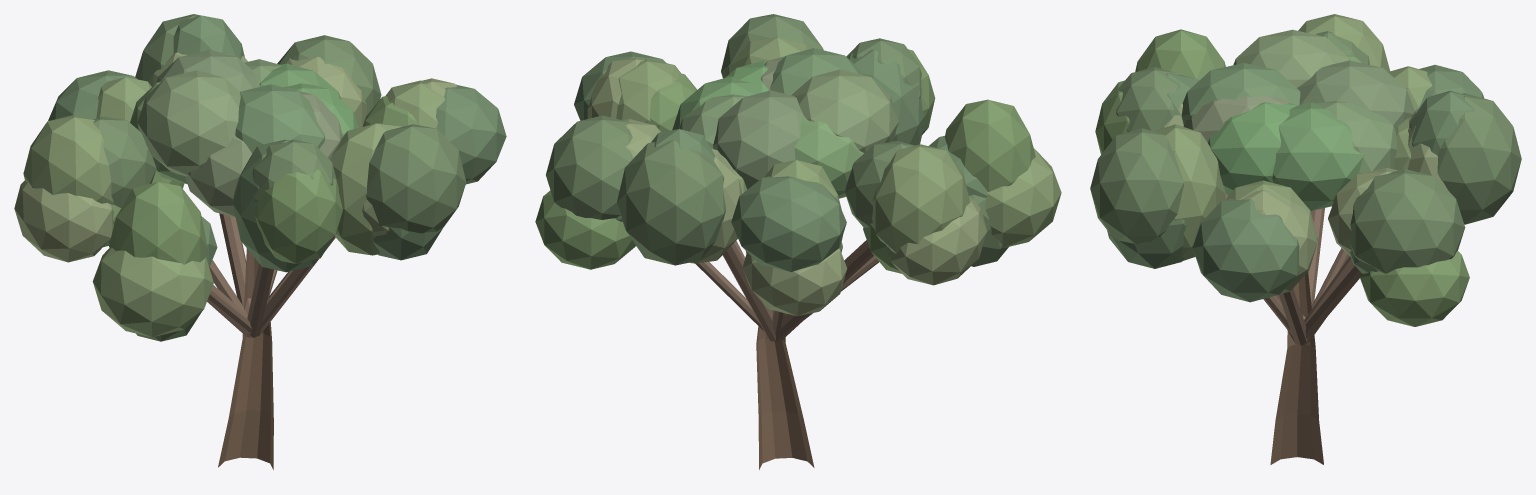
Rendered from old_oak_2.glb.
The picture shows the model from 3 angles, left to right: view 1: azimuth 30°, elevation 25°; view 2: azimuth 150°, elevation 25°; view 3: azimuth 270°, elevation 25°; orthographic projection.
Visible parts, largest first — view 1: old_oak_2_10, old_oak_2_43, old_oak_2_20, old_oak_2_15, old_oak_2_19, old_oak_2_0, old_oak_2_24, old_oak_2_25, old_oak_2_5, old_oak_2_7, old_oak_2_41, old_oak_2_22 (+22 smaller); view 2: old_oak_2_35, old_oak_2_30, old_oak_2_24, old_oak_2_39, old_oak_2_45, old_oak_2_19, old_oak_2_43, old_oak_2_0, old_oak_2_20, old_oak_2_40, old_oak_2_25, old_oak_2_29 (+25 smaller); view 3: old_oak_2_39, old_oak_2_10, old_oak_2_5, old_oak_2_35, old_oak_2_47, old_oak_2_0, old_oak_2_40, old_oak_2_44, old_oak_2_45, old_oak_2_7, old_oak_2_43, old_oak_2_41 (+22 smaller).
Part boxes in pixels (left/top/right/bottom): old_oak_2_10: left=366, top=124, right=466, bottom=233; old_oak_2_43: left=137, top=70, right=240, bottom=176; old_oak_2_20: left=92, top=248, right=213, bottom=337; old_oak_2_15: left=255, top=169, right=342, bottom=263; old_oak_2_19: left=109, top=182, right=207, bottom=264; old_oak_2_0: left=218, top=248, right=273, bottom=469; old_oak_2_24: left=23, top=115, right=113, bottom=204; old_oak_2_25: left=14, top=180, right=113, bottom=262; old_oak_2_5: left=436, top=84, right=506, bottom=184; old_oak_2_7: left=330, top=123, right=402, bottom=255; old_oak_2_41: left=235, top=84, right=324, bottom=153; old_oak_2_22: left=93, top=116, right=156, bottom=207; old_oak_2_35: left=617, top=140, right=726, bottom=265; old_oak_2_30: left=731, top=176, right=846, bottom=271; old_oak_2_24: left=871, top=144, right=970, bottom=253; old_oak_2_39: left=546, top=115, right=633, bottom=219; old_oak_2_45: left=713, top=90, right=803, bottom=189; old_oak_2_19: left=945, top=99, right=1035, bottom=191; old_oak_2_43: left=791, top=69, right=898, bottom=152; old_oak_2_0: left=756, top=326, right=814, bottom=469; old_oak_2_20: left=985, top=148, right=1061, bottom=247; old_oak_2_40: left=535, top=190, right=635, bottom=269; old_oak_2_25: left=889, top=196, right=986, bottom=285; old_oak_2_29: left=742, top=248, right=847, bottom=316; old_oak_2_39: left=1350, top=169, right=1465, bottom=273; old_oak_2_10: left=1090, top=128, right=1183, bottom=244; old_oak_2_5: left=1192, top=198, right=1299, bottom=302; old_oak_2_35: left=1437, top=93, right=1521, bottom=224; old_oak_2_47: left=1272, top=102, right=1364, bottom=210; old_oak_2_0: left=1270, top=272, right=1323, bottom=464; old_oak_2_40: left=1360, top=250, right=1469, bottom=326; old_oak_2_44: left=1208, top=102, right=1298, bottom=195; old_oak_2_45: left=1297, top=60, right=1414, bottom=129; old_oak_2_7: left=1153, top=124, right=1225, bottom=260; old_oak_2_43: left=1233, top=29, right=1349, bottom=87; old_oak_2_41: left=1181, top=63, right=1300, bottom=124.
Bounding box in the file's own units: 9.52 × 8.46 × 8.09.
